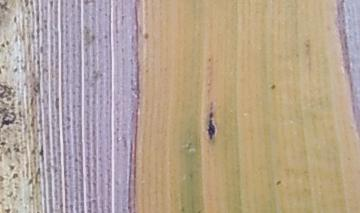tarspot: (206, 110, 216, 141), (276, 179, 281, 186), (270, 85, 276, 90)
